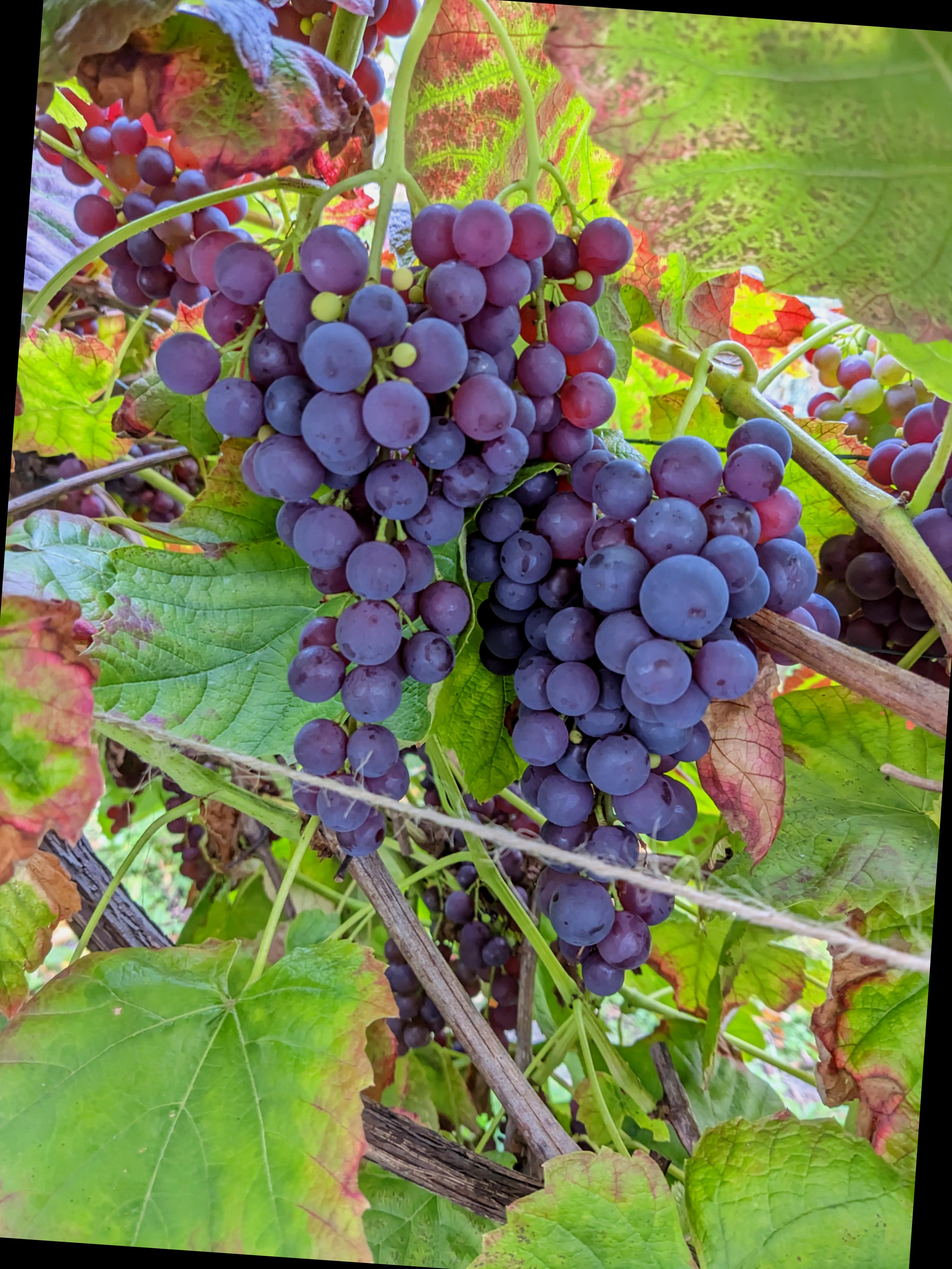Grape Unripe: (166, 149, 671, 848), (479, 364, 902, 985), (68, 76, 298, 290), (447, 753, 593, 1026), (857, 360, 952, 642), (838, 290, 952, 423), (91, 403, 250, 498), (302, 0, 460, 77), (419, 900, 494, 1027), (199, 758, 267, 854)
